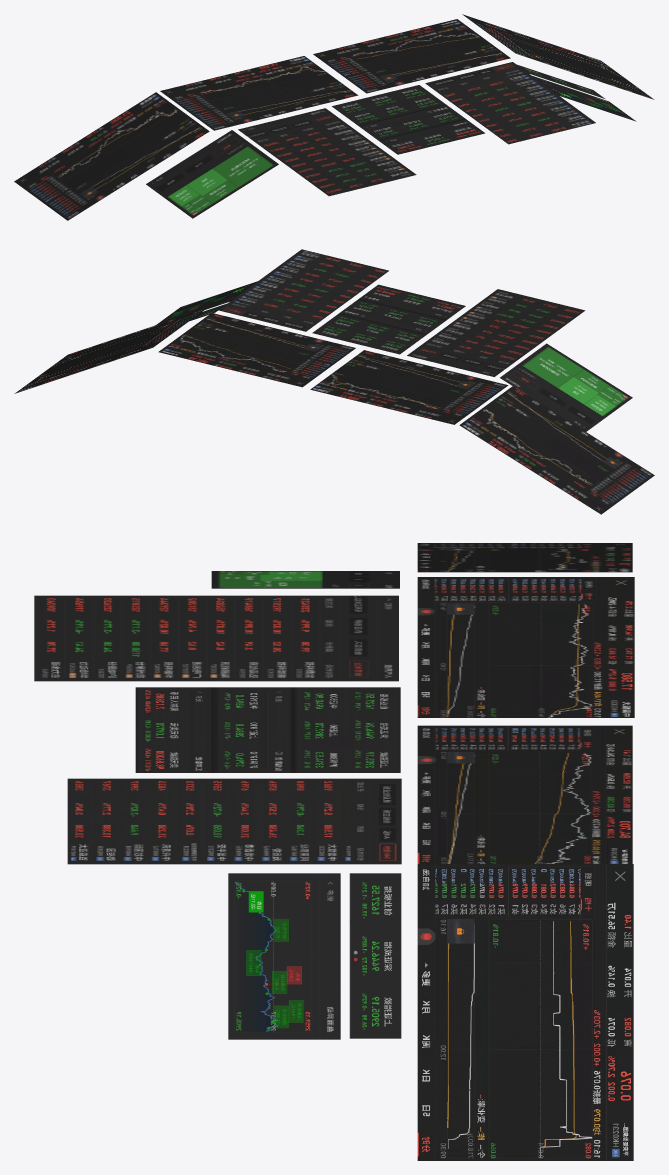
File: tonghuashun.fbx
3 renders of one model, top to bottom at view 1: azimuth 30°, elevation 25°; view 2: azimuth 150°, elevation 25°; view 3: azimuth 270°, elevation 25°, orthographic. The views are drawn at different scales.
Parts seen in each view (by area): view 1: D:\HoloLens\StoryPad\Tonghuashun\Tonghuashun_0006_图层-3.png, D:\HoloLens\StoryPad\Tonghuashun\Tonghuashun_0000_图层-10.png, D:\HoloLens\StoryPad\Tonghuashun\Tonghuashun_0008_图层-1.png, D:\HoloLens\StoryPad\Tonghuashun\Tonghuashun_0007_图层-2.png, D:\HoloLens\StoryPad\Tonghuashun\Tonghuashun_0003_图层-9.png, D:\HoloLens\StoryPad\Tonghuashun\Tonghuashun_0004_图层-8.png, D:\HoloLens\StoryPad\Tonghuashun\Tonghuashun_0005_图层-7.png, D:\HoloLens\StoryPad\Tonghuashun\Tonghuashun_0002_图层-4.png, D:\HoloLens\StoryPad\Tonghuashun\Tonghuashun_0001_图层-6.png; view 2: D:\HoloLens\StoryPad\Tonghuashun\Tonghuashun_0006_图层-3.png, D:\HoloLens\StoryPad\Tonghuashun\Tonghuashun_0000_图层-10.png, D:\HoloLens\StoryPad\Tonghuashun\Tonghuashun_0008_图层-1.png, D:\HoloLens\StoryPad\Tonghuashun\Tonghuashun_0007_图层-2.png, D:\HoloLens\StoryPad\Tonghuashun\Tonghuashun_0003_图层-9.png, D:\HoloLens\StoryPad\Tonghuashun\Tonghuashun_0004_图层-8.png, D:\HoloLens\StoryPad\Tonghuashun\Tonghuashun_0005_图层-7.png, D:\HoloLens\StoryPad\Tonghuashun\Tonghuashun_0002_图层-4.png, D:\HoloLens\StoryPad\Tonghuashun\Tonghuashun_0001_图层-6.png; view 3: D:\HoloLens\StoryPad\Tonghuashun\Tonghuashun_0002_图层-4.png, D:\HoloLens\StoryPad\Tonghuashun\Tonghuashun_0000_图层-10.png, D:\HoloLens\StoryPad\Tonghuashun\Tonghuashun_0008_图层-1.png, D:\HoloLens\StoryPad\Tonghuashun\Tonghuashun_0007_图层-2.png, D:\HoloLens\StoryPad\Tonghuashun\Tonghuashun_0003_图层-9.png, D:\HoloLens\StoryPad\Tonghuashun\Tonghuashun_0001_图层-6.png, D:\HoloLens\StoryPad\Tonghuashun\Tonghuashun_0004_图层-8.png, D:\HoloLens\StoryPad\Tonghuashun\Tonghuashun_0006_图层-3.png, D:\HoloLens\StoryPad\Tonghuashun\Tonghuashun_0005_图层-7.png.
Part boxes in pixels (bbox=[...]): D:\HoloLens\StoryPad\Tonghuashun\Tonghuashun_0006_图层-3.png: bbox=[14, 92, 209, 220]; D:\HoloLens\StoryPad\Tonghuashun\Tonghuashun_0000_图层-10.png: bbox=[238, 108, 416, 196]; D:\HoloLens\StoryPad\Tonghuashun\Tonghuashun_0008_图层-1.png: bbox=[160, 56, 358, 130]; D:\HoloLens\StoryPad\Tonghuashun\Tonghuashun_0007_图层-2.png: bbox=[313, 19, 510, 93]; D:\HoloLens\StoryPad\Tonghuashun\Tonghuashun_0003_图层-9.png: bbox=[425, 62, 595, 144]; D:\HoloLens\StoryPad\Tonghuashun\Tonghuashun_0004_图层-8.png: bbox=[332, 85, 484, 154]; D:\HoloLens\StoryPad\Tonghuashun\Tonghuashun_0005_图层-7.png: bbox=[146, 130, 278, 218]; D:\HoloLens\StoryPad\Tonghuashun\Tonghuashun_0002_图层-4.png: bbox=[462, 14, 654, 99]; D:\HoloLens\StoryPad\Tonghuashun\Tonghuashun_0001_图层-6.png: bbox=[517, 64, 636, 121]; D:\HoloLens\StoryPad\Tonghuashun\Tonghuashun_0006_图层-3.png: bbox=[459, 386, 654, 514]; D:\HoloLens\StoryPad\Tonghuashun\Tonghuashun_0000_图层-10.png: bbox=[407, 289, 585, 376]; D:\HoloLens\StoryPad\Tonghuashun\Tonghuashun_0008_图层-1.png: bbox=[310, 350, 508, 424]; D:\HoloLens\StoryPad\Tonghuashun\Tonghuashun_0007_图层-2.png: bbox=[158, 313, 355, 387]; D:\HoloLens\StoryPad\Tonghuashun\Tonghuashun_0003_图层-9.png: bbox=[218, 249, 388, 331]; D:\HoloLens\StoryPad\Tonghuashun\Tonghuashun_0004_图层-8.png: bbox=[312, 284, 465, 354]; D:\HoloLens\StoryPad\Tonghuashun\Tonghuashun_0005_图层-7.png: bbox=[500, 343, 632, 431]; D:\HoloLens\StoryPad\Tonghuashun\Tonghuashun_0002_图层-4.png: bbox=[14, 308, 206, 393]; D:\HoloLens\StoryPad\Tonghuashun\Tonghuashun_0001_图层-6.png: bbox=[156, 281, 257, 324]; D:\HoloLens\StoryPad\Tonghuashun\Tonghuashun_0002_图层-4.png: bbox=[417, 864, 633, 1160]; D:\HoloLens\StoryPad\Tonghuashun\Tonghuashun_0000_图层-10.png: bbox=[34, 595, 398, 681]; D:\HoloLens\StoryPad\Tonghuashun\Tonghuashun_0008_图层-1.png: bbox=[417, 577, 634, 717]; D:\HoloLens\StoryPad\Tonghuashun\Tonghuashun_0007_图层-2.png: bbox=[417, 725, 632, 863]; D:\HoloLens\StoryPad\Tonghuashun\Tonghuashun_0003_图层-9.png: bbox=[67, 778, 401, 864]; D:\HoloLens\StoryPad\Tonghuashun\Tonghuashun_0001_图层-6.png: bbox=[228, 873, 401, 1039]; D:\HoloLens\StoryPad\Tonghuashun\Tonghuashun_0004_图层-8.png: bbox=[135, 687, 400, 772]; D:\HoloLens\StoryPad\Tonghuashun\Tonghuashun_0006_图层-3.png: bbox=[417, 543, 632, 572]; D:\HoloLens\StoryPad\Tonghuashun\Tonghuashun_0005_图层-7.png: bbox=[211, 571, 399, 588].
Bounding box in the file's own units: 141 × 62.45 × 18.46.
Materials: 9 (9 with a texture image).
